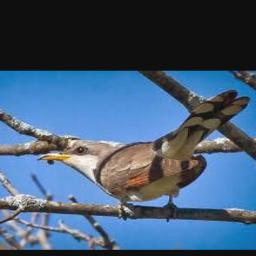Cuckoo: (36, 90, 249, 209)
